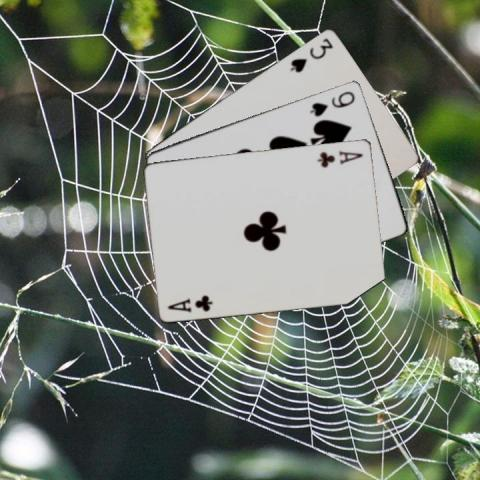3s: (287, 35, 335, 73)
9s: (306, 87, 357, 118)
Ac: (314, 148, 364, 168), (165, 293, 214, 313)
